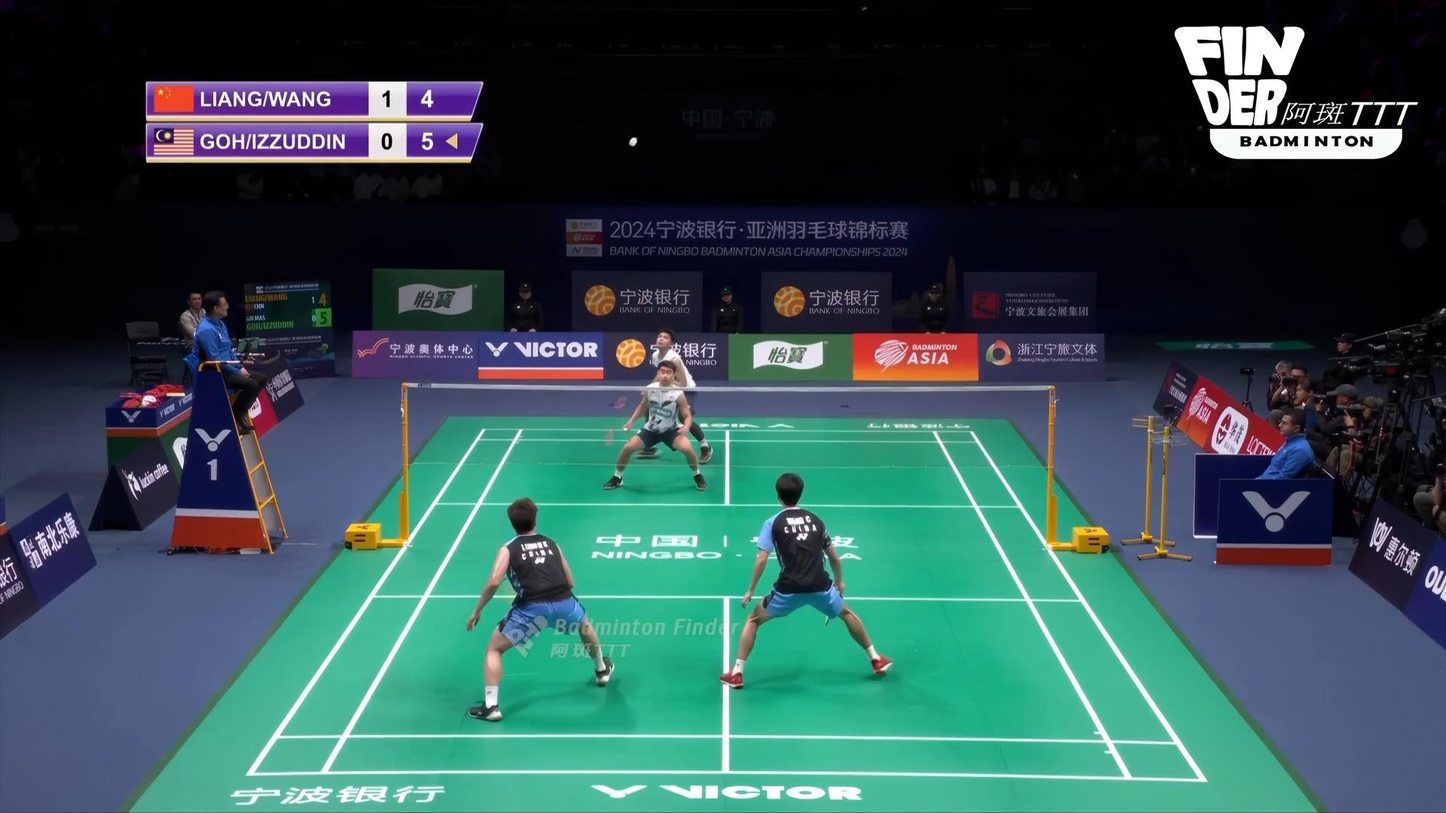player: (719, 473, 893, 690), (465, 498, 614, 722), (604, 361, 708, 492), (635, 327, 713, 465)
shuttlecock: (629, 137, 638, 147)
